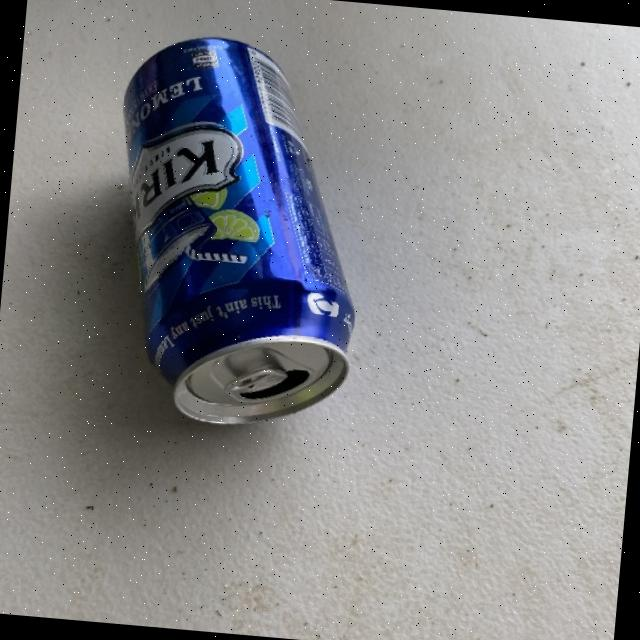metal: (94, 28, 378, 436)
